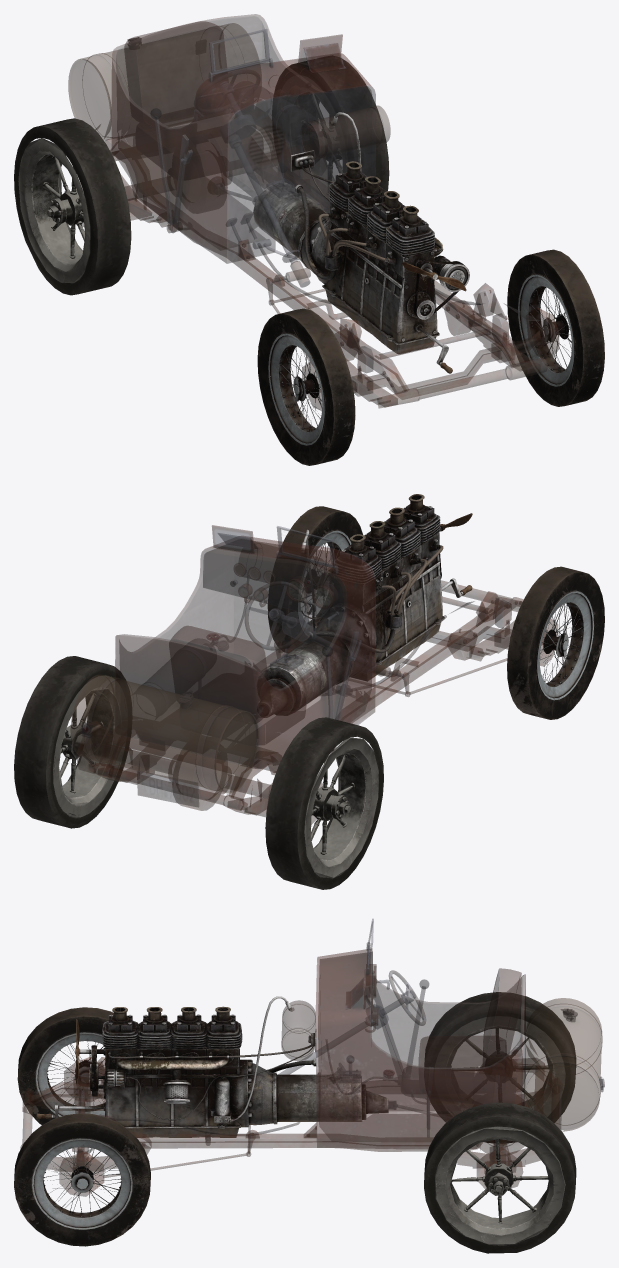
The model's file is vintage.glb.
3 renders of one model, top to bottom at view 1: azimuth 30°, elevation 25°; view 2: azimuth 150°, elevation 25°; view 3: azimuth 270°, elevation 25°, orthographic. The views are drawn at different scales.
Visible parts, largest first — view 1: object 1, object 3, WFR, WFL, object 2, WRR, WRL; view 2: object 1, object 3, object 2, WFR, WRR, WRL, WFL; view 3: object 1, object 3, WFL, WRL, object 2, WFR, WRR.
Part boxes in pixels (<box>): object 1: <box>68,14,547,399</box>; object 3: <box>253,112,469,373</box>; WFR: <box>257,308,419,465</box>; WFL: <box>469,249,604,406</box>; object 2: <box>14,56,389,282</box>; WRR: <box>15,118,172,295</box>; WRL: <box>254,75,349,212</box>; object 1: <box>70,525,512,810</box>; object 3: <box>257,494,472,717</box>; object 2: <box>14,656,383,882</box>; WFR: <box>447,566,604,719</box>; WRR: <box>223,717,382,889</box>; WRL: <box>26,675,161,828</box>; WFL: <box>267,506,362,652</box>; object 1: <box>20,918,604,1177</box>; object 3: <box>36,996,388,1137</box>; WFL: <box>14,1113,150,1246</box>; WRL: <box>429,1091,570,1253</box>; object 2: <box>424,992,576,1232</box>; WFR: <box>17,1007,113,1124</box>; WRR: <box>430,1016,570,1143</box>.
Size of the model in its own units: 1.9 by 1.65 by 3.6.
Materials: 4 (4 with a texture image).
